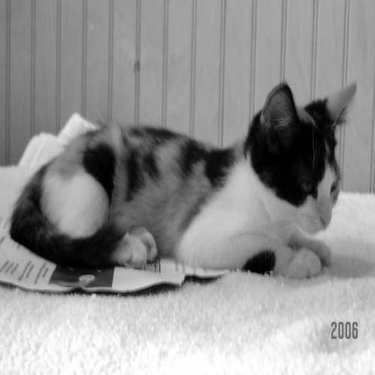cat: (8, 77, 355, 280)
